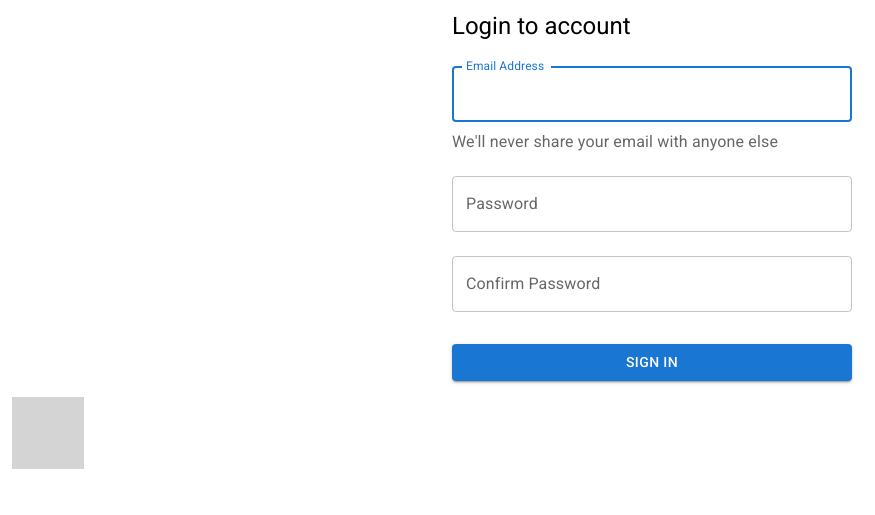
should show email error message
The width and height of the screenshot is (875, 515).
Type "selena" into the field labelled "Email Address" at (652, 94), box [452,66,852,122]
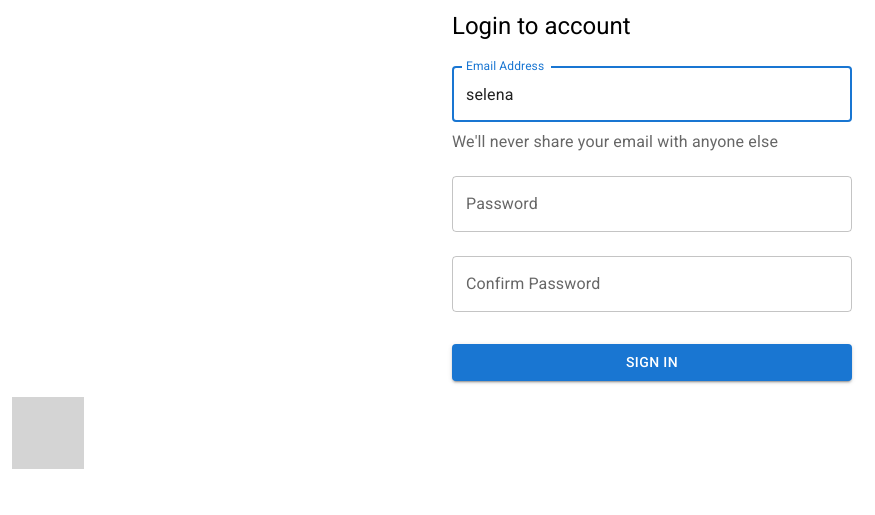
Click the button at (652, 362), box [452,344,852,380]
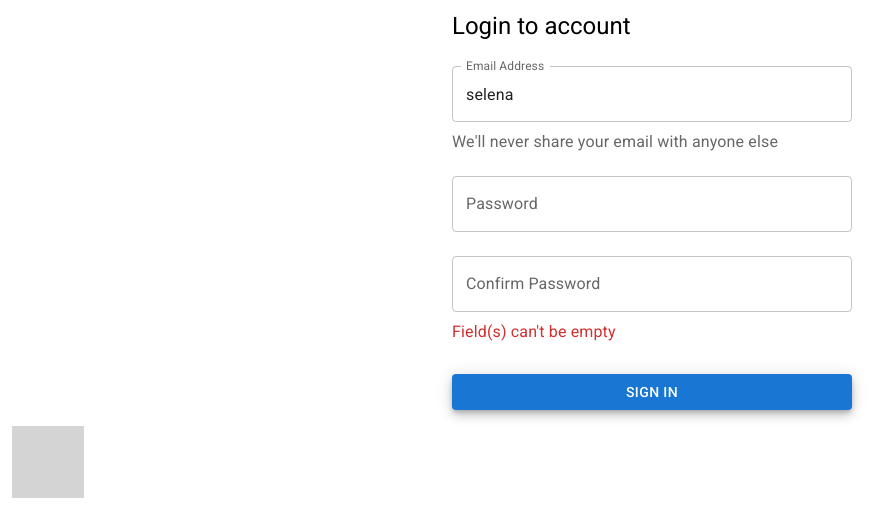
Check: the text "Field(s) can't be empty" is shown, box [452,322,616,341]
